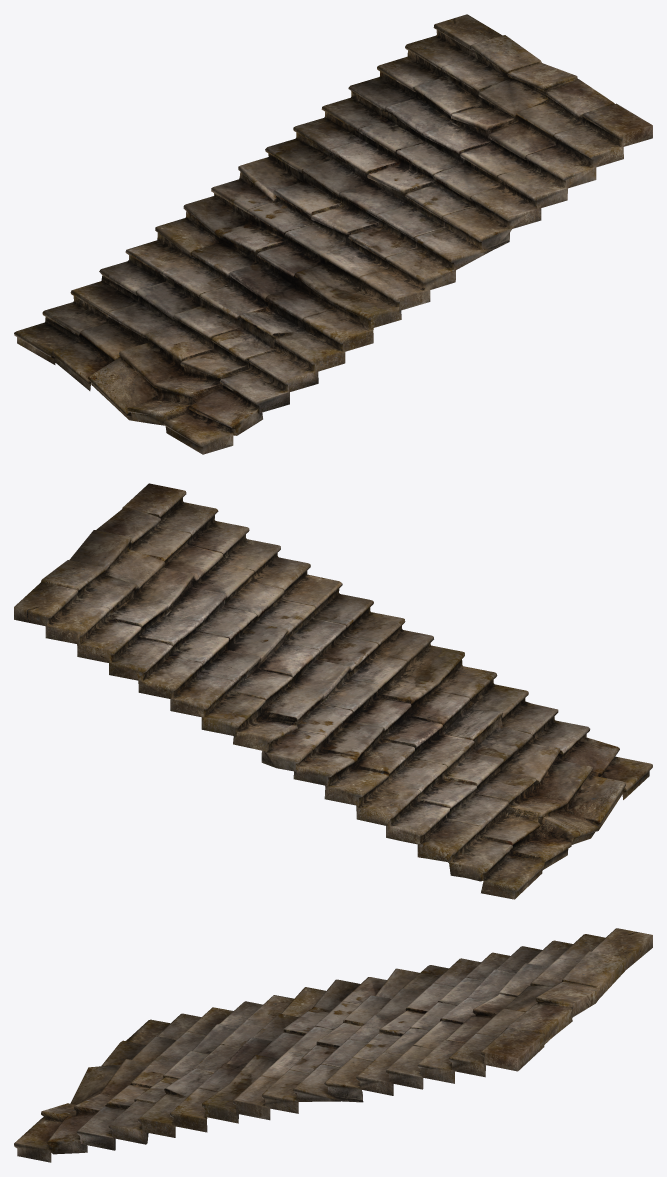
The model's file is P_CemeteryStairs03.fbx.
3 views of the same model, one above another, from view 1: azimuth 30°, elevation 25°; view 2: azimuth 150°, elevation 25°; view 3: azimuth 330°, elevation 25° (orthographic).
Parts seen in each view (by area): view 1: P_CemeteryStairs03; view 2: P_CemeteryStairs03; view 3: P_CemeteryStairs03.
Boxes of the visible parts, x1,y1,x2,y2 form: P_CemeteryStairs03: (14,14,652,454); P_CemeteryStairs03: (14,483,652,899); P_CemeteryStairs03: (14,928,652,1162).
Bounding box in the file's own units: 461 × 185 × 294.
